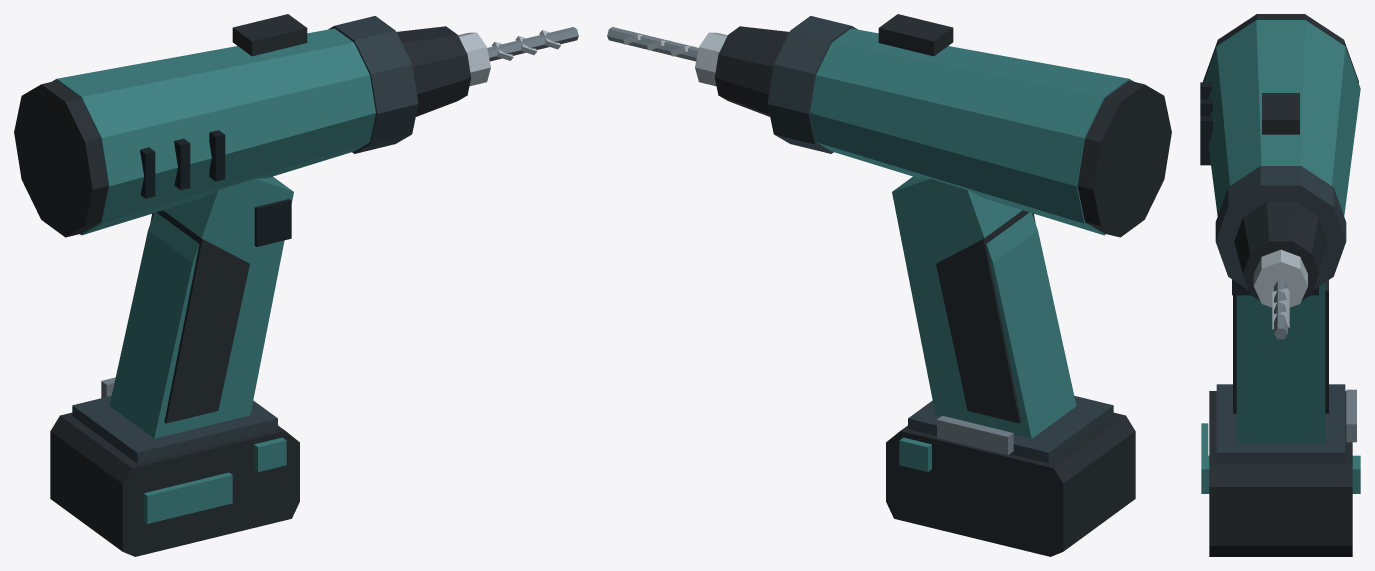
Rendered from b06_cordless_drill.glb.
The picture shows the model from 3 angles, left to right: view 1: azimuth 30°, elevation 25°; view 2: azimuth 150°, elevation 25°; view 3: azimuth 270°, elevation 25°; orthographic projection.
Parts seen in each view (by area): view 1: b06_cordless_drill; view 2: b06_cordless_drill; view 3: b06_cordless_drill.
Part boxes in pixels (x1=…): b06_cordless_drill: x1=14, y1=14, x2=578, y2=556; b06_cordless_drill: x1=607, y1=14, x2=1171, y2=556; b06_cordless_drill: x1=1200, y1=14, x2=1360, y2=556.
Bounding box in the file's own units: 0.33 × 0.2785 × 0.0885.
